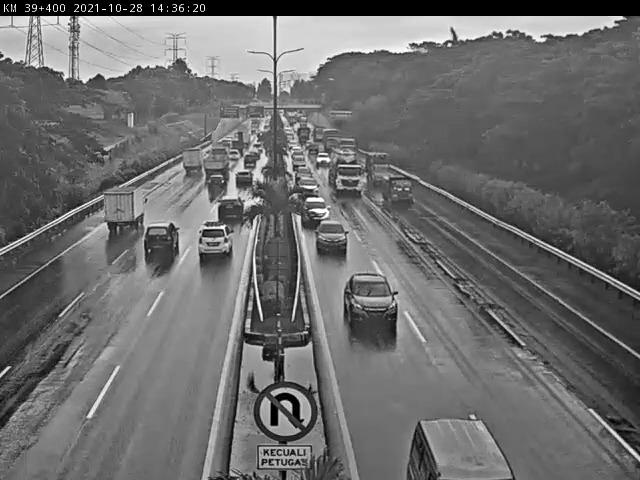big truck: (329, 147, 364, 195), (199, 148, 229, 178)
car: (341, 270, 401, 328), (198, 222, 233, 259), (313, 218, 349, 252), (143, 222, 181, 254), (302, 196, 331, 225), (216, 197, 245, 223), (205, 173, 228, 193), (297, 176, 319, 196), (234, 168, 254, 187)
small truck: (102, 187, 147, 231), (380, 169, 414, 206), (180, 147, 206, 174)
